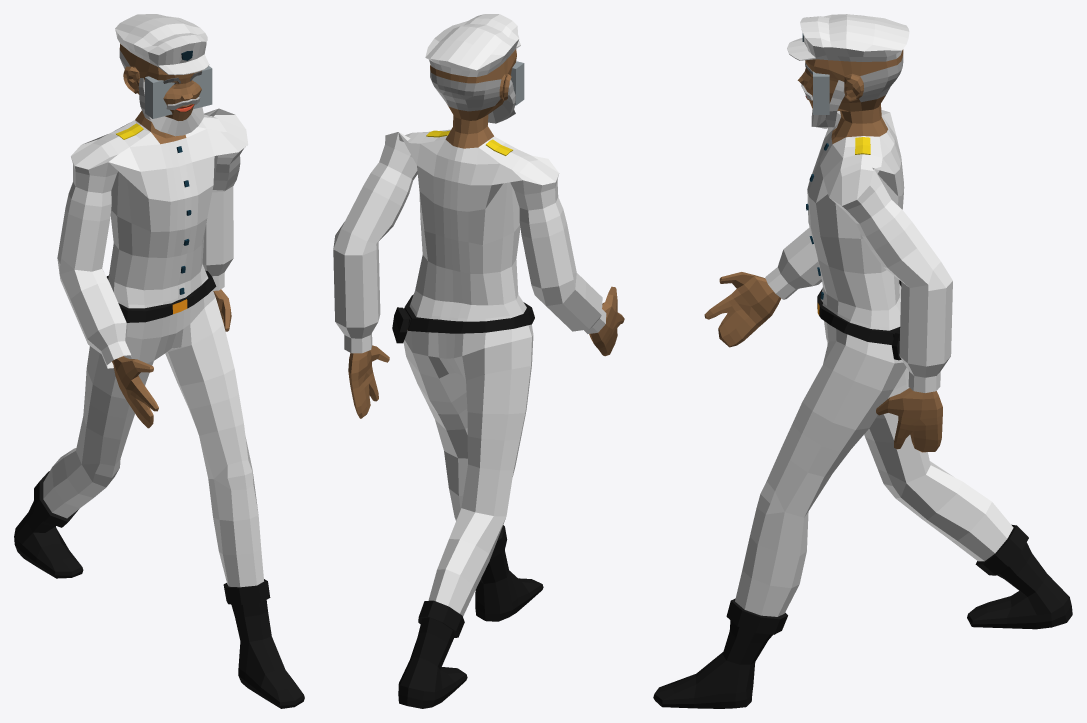
The model's file is TrafficPolice_Walk_Mask.fbx.
3 views of the same model, side by side, from view 1: azimuth 30°, elevation 25°; view 2: azimuth 150°, elevation 25°; view 3: azimuth 270°, elevation 25° (orthographic). The views are drawn at different scales.
Visible parts, largest first — view 1: TrafficPolice_Walk_Mask; view 2: TrafficPolice_Walk_Mask; view 3: TrafficPolice_Walk_Mask.
Part boxes in pixels (box(x1,y1,x2,y2)): TrafficPolice_Walk_Mask: box(14, 14, 304, 708); TrafficPolice_Walk_Mask: box(333, 14, 624, 708); TrafficPolice_Walk_Mask: box(653, 14, 1072, 708).
Bounding box in the file's own units: 0.324 × 0.9539 × 0.5472.
